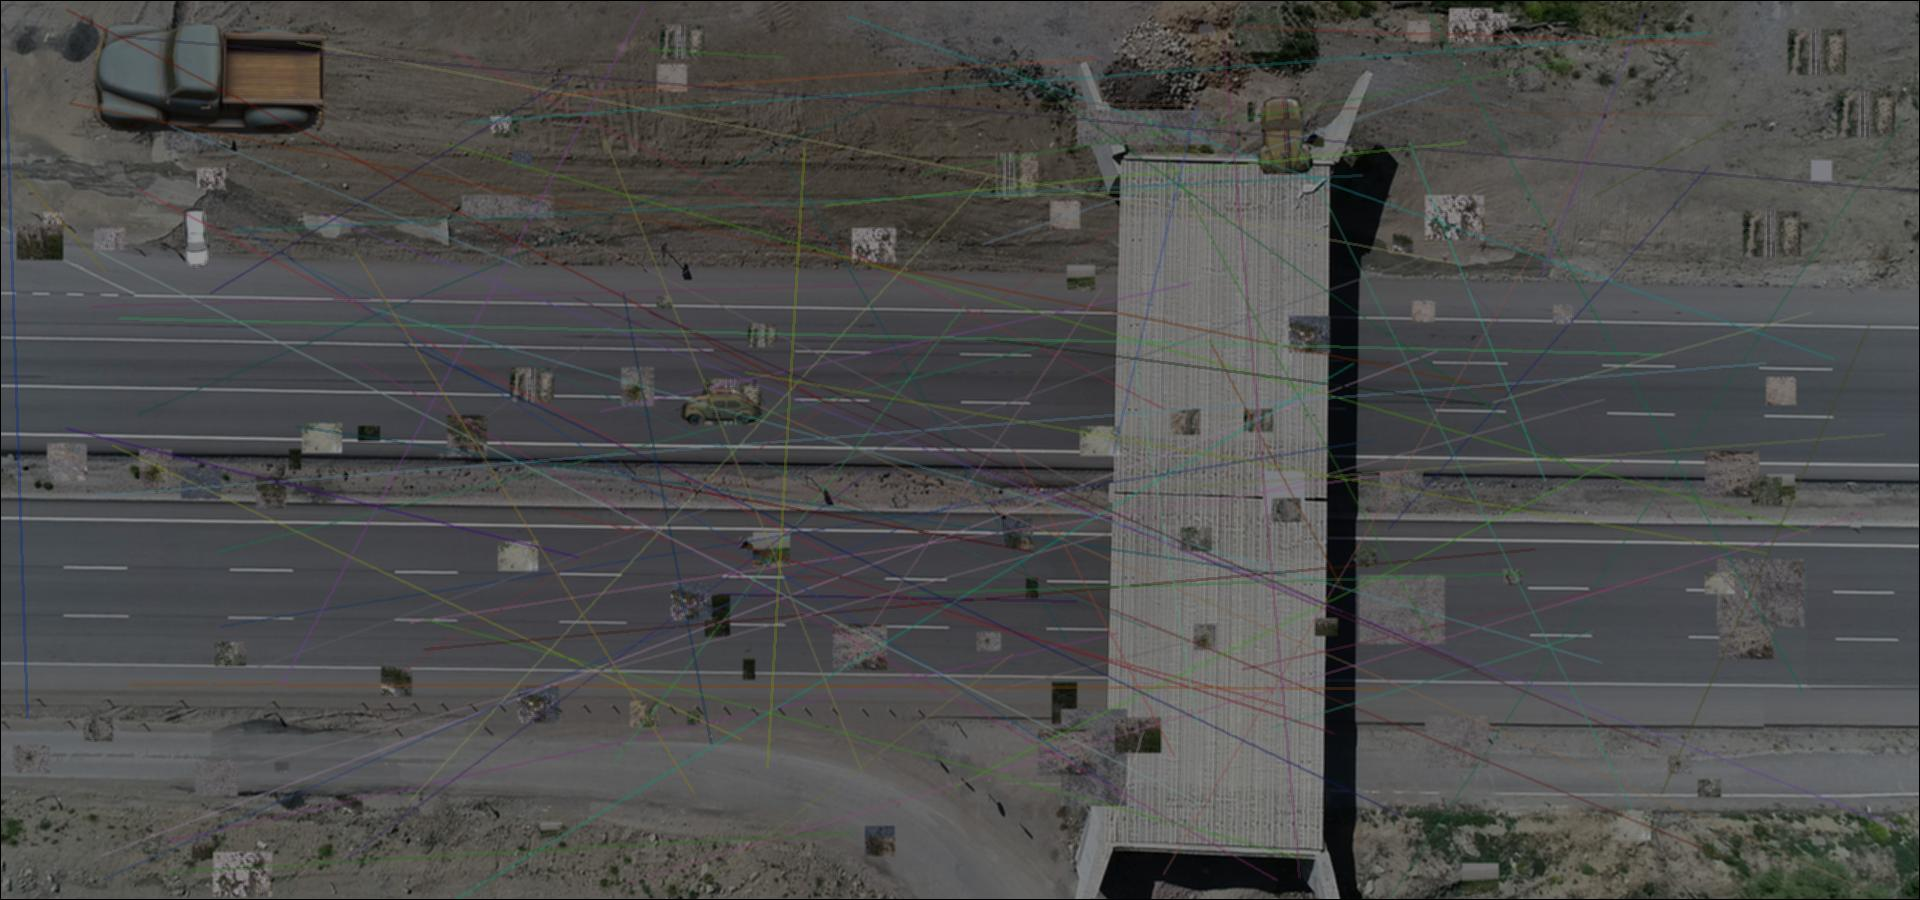arac: (94, 15, 328, 133), (1258, 97, 1314, 174), (676, 386, 765, 429), (178, 207, 212, 268)
